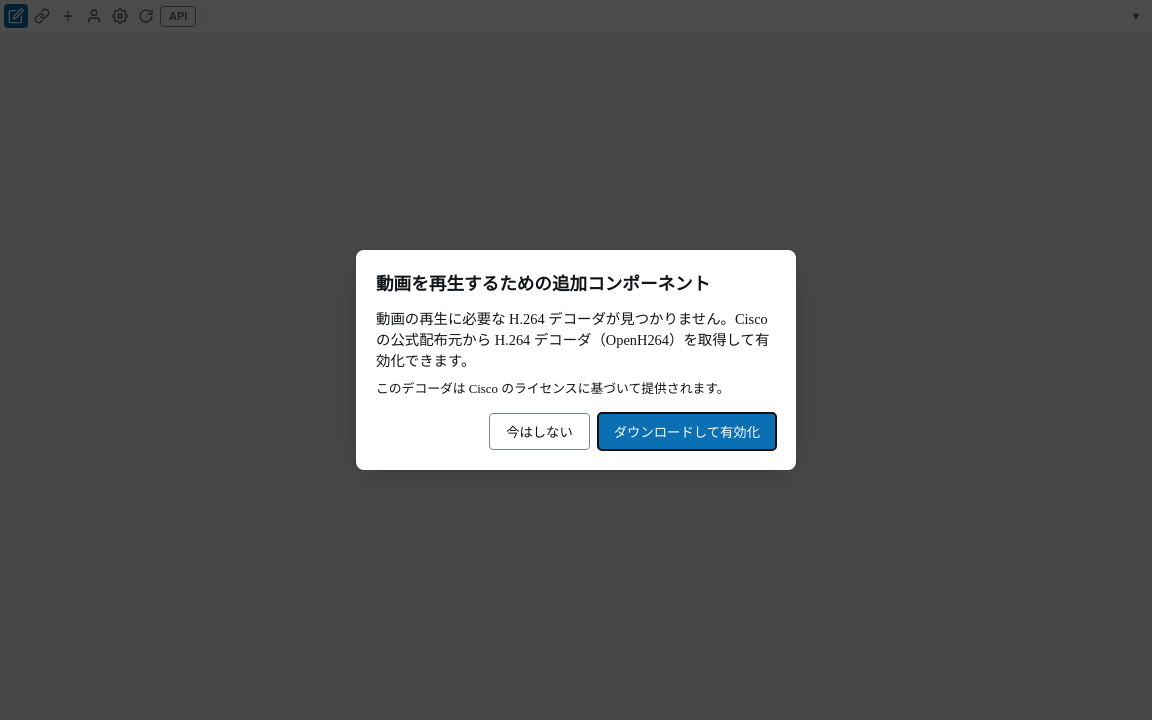
Test case: App (desktop) › H.264取得案内 › 案内で「今はしない」を選ぶとダイアログが閉じ拒否が保存される
What coordinates should you click on to do the following:
click the button "今はしない"
I would click on:
 (539, 432)
Its box is [489,413,590,450].
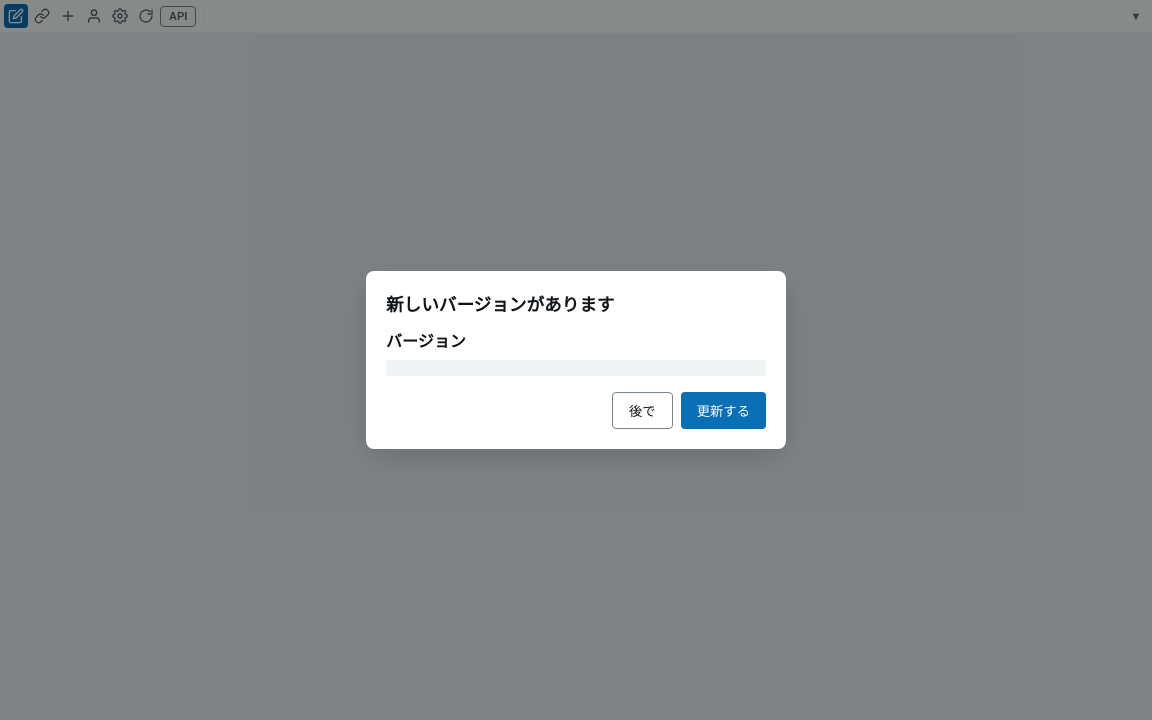
Now the heading "追加コンポーネント" is gone
